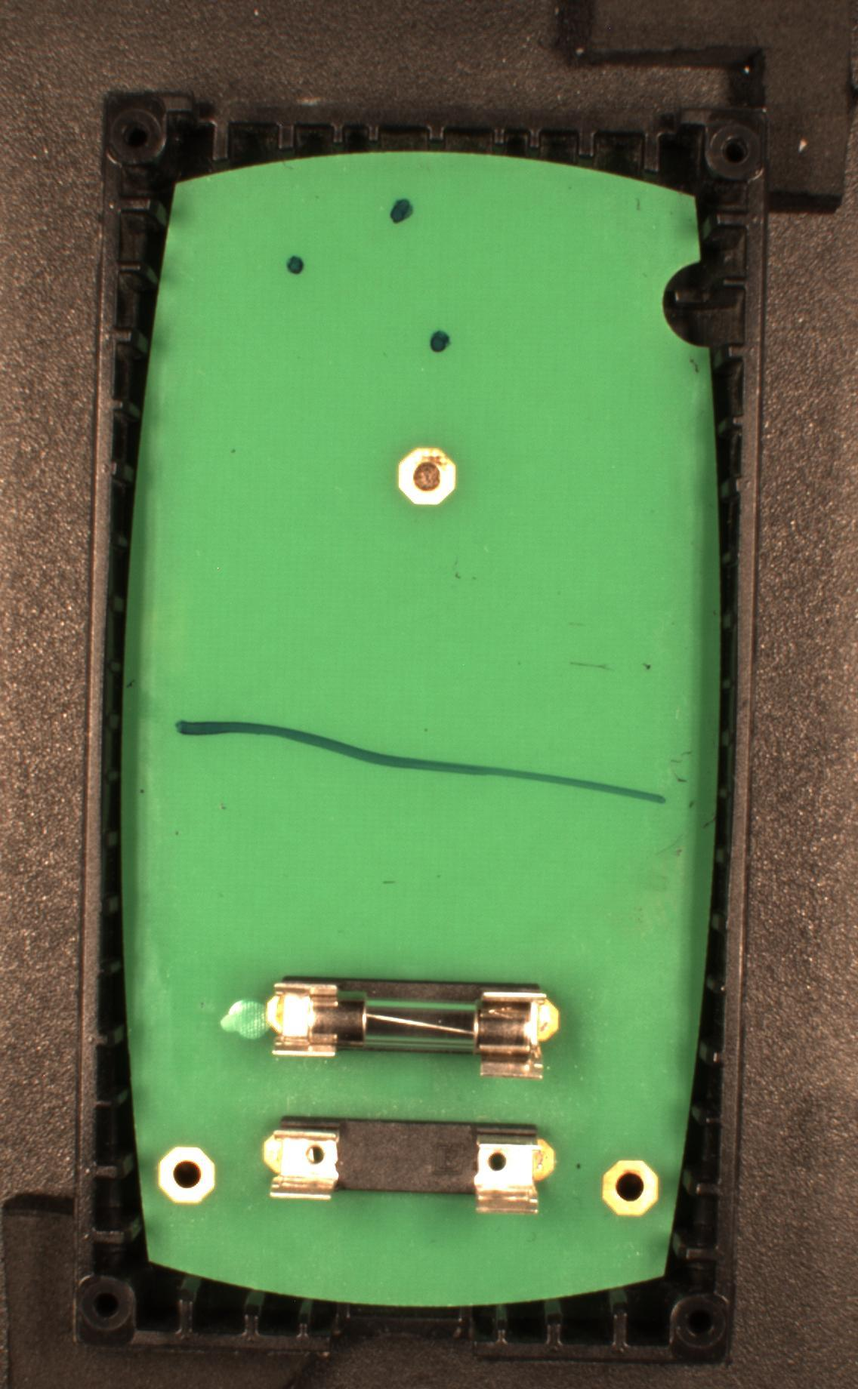Linijsko Ostecene: (170, 715, 675, 810)
Nepostojanje osiguraca: (261, 1108, 563, 1223)
Tockasto Ostecenje: (388, 196, 415, 225), (427, 327, 452, 355), (286, 254, 305, 276)
